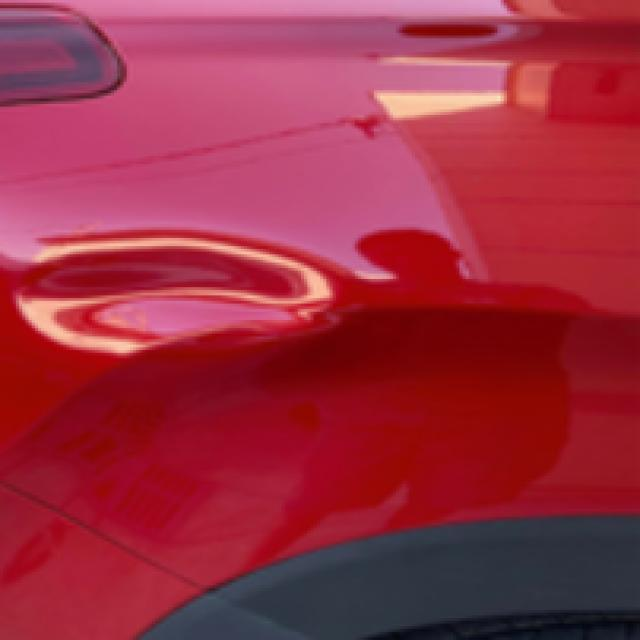dents: (12, 210, 330, 356)
